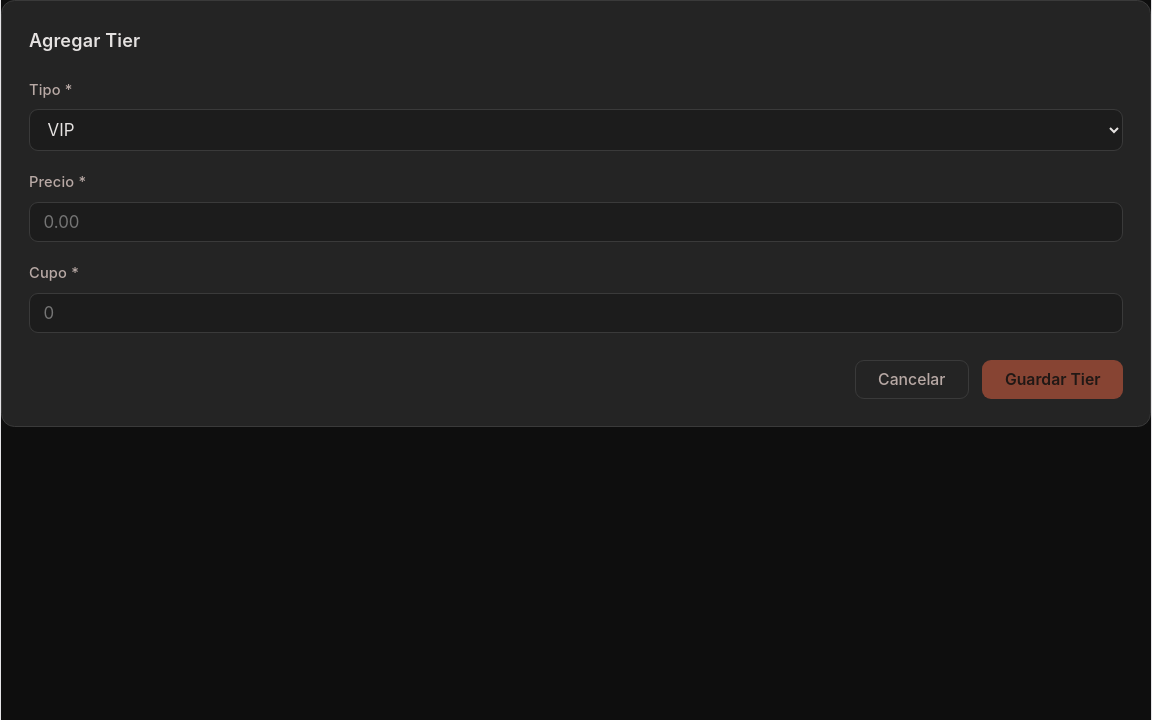
Test: TierForm › shows error when price <= 0
enter zero price
Step 1. Type "0" into the number field labelled "Precio *" → x=576, y=222, box [29,202,1123,242]
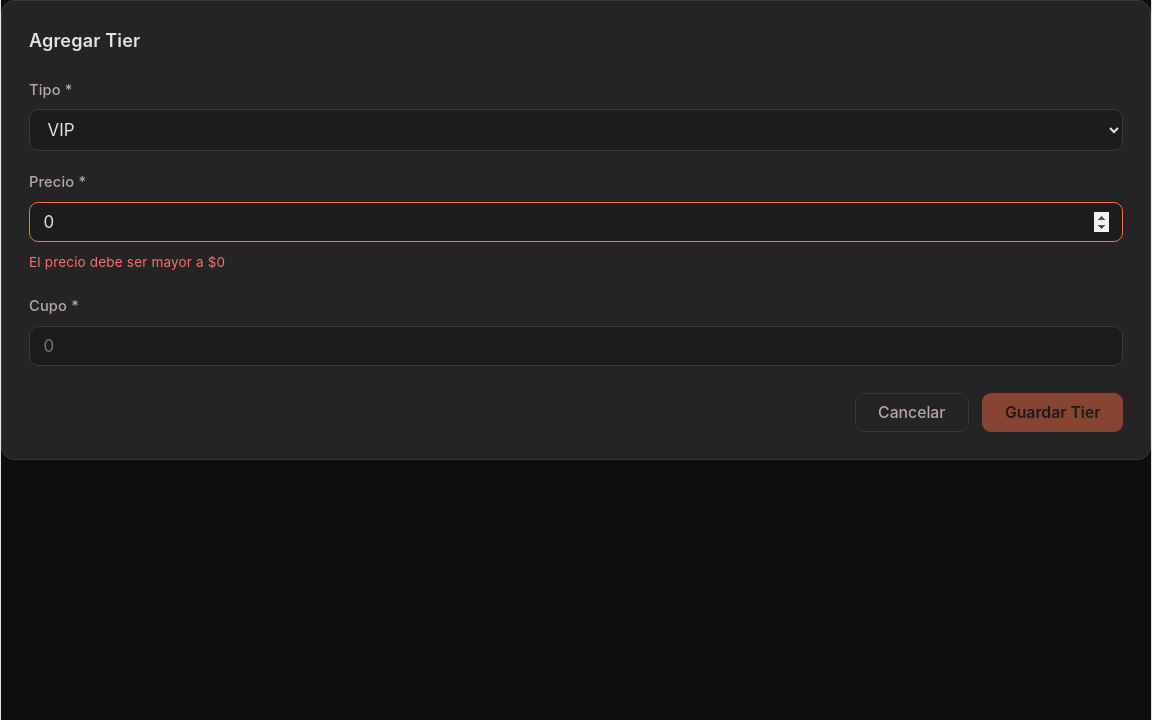
Expected: the text "El precio debe ser mayor a $0" is shown, [29,254,225,270]
